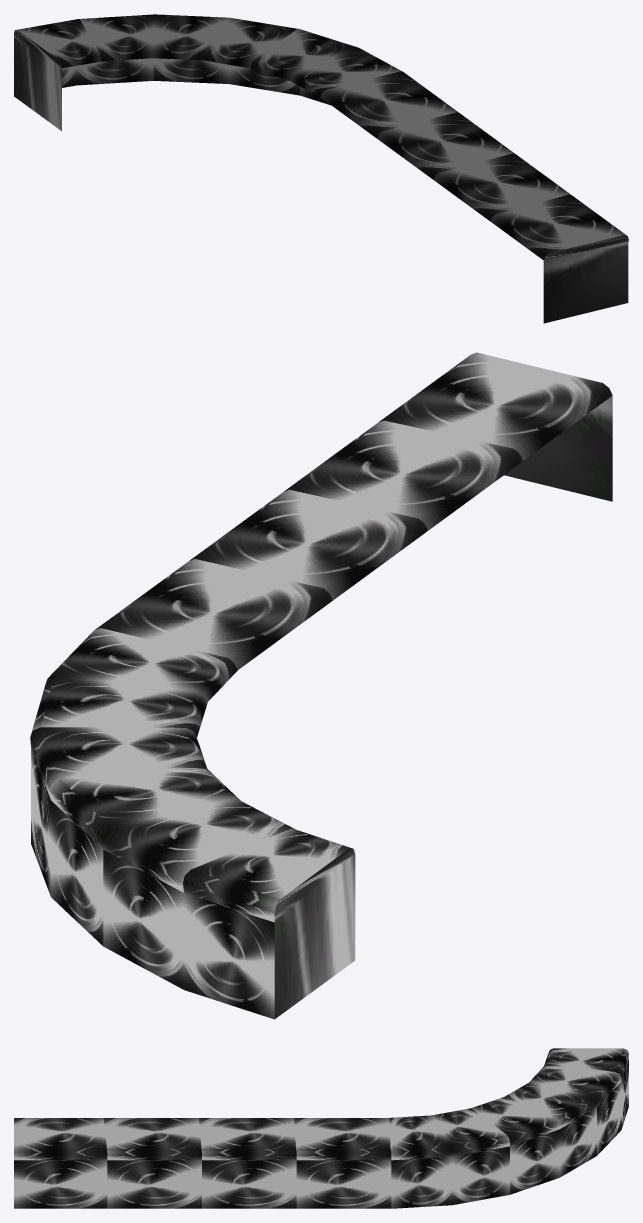
3 renders of one model, top to bottom at view 1: azimuth 30°, elevation 25°; view 2: azimuth 150°, elevation 25°; view 3: azimuth 270°, elevation 25°, orthographic. The views are drawn at different scales.
Parts seen in each view (by area): view 1: Joint_0_Object_0; view 2: Joint_0_Object_0; view 3: Joint_0_Object_0.
Boxes of the visible parts, x1,y1,x2,y2 form: Joint_0_Object_0: (14,14,628,323); Joint_0_Object_0: (30,352,612,1019); Joint_0_Object_0: (14,1048,628,1208).
Bounding box in the file's own units: 1260 × 333 × 3190.
